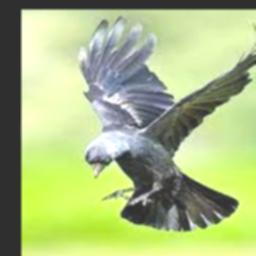Crow: (79, 16, 256, 231)
